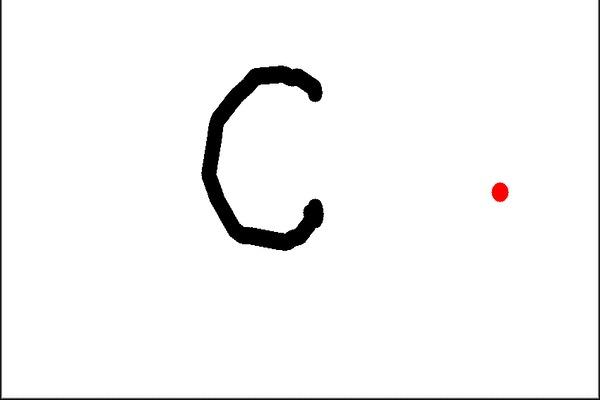C: (197, 60, 328, 250)
